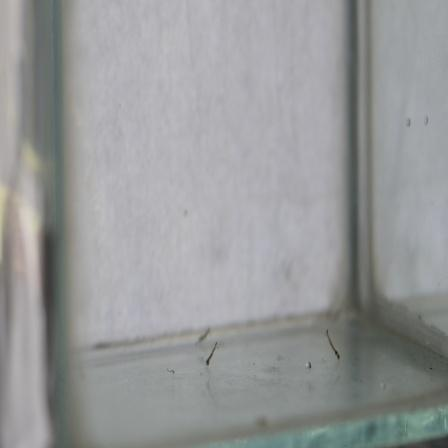Jentik-Nyamuk: (323, 327, 343, 364)
